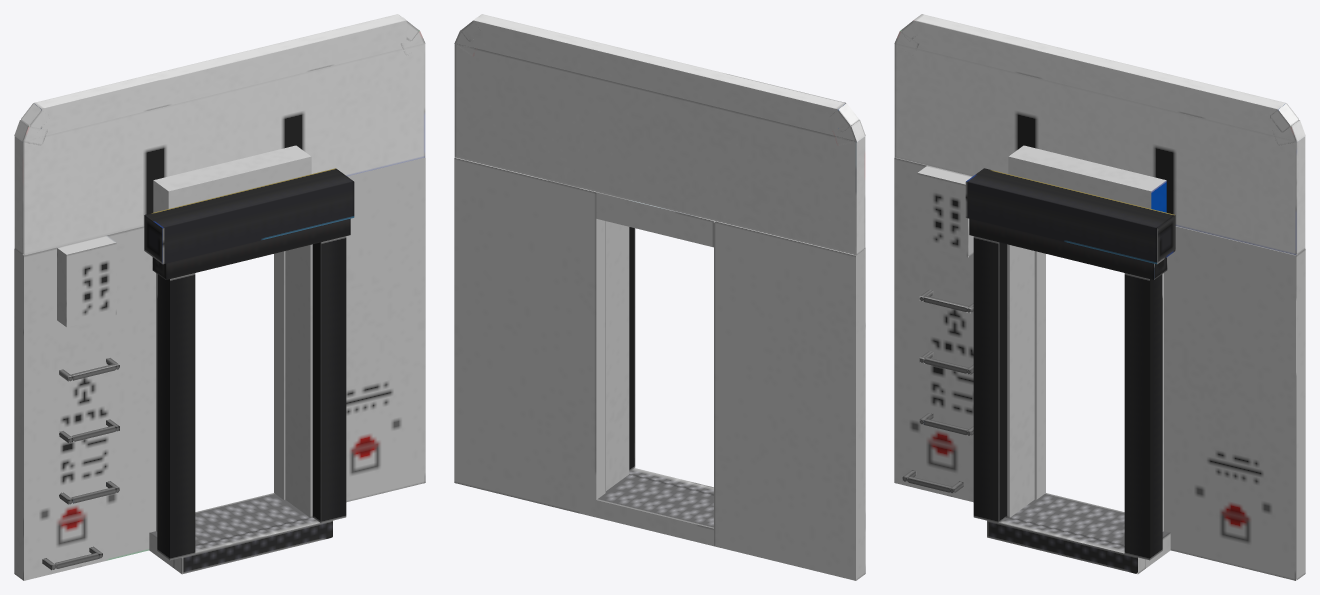
The model's file is end_face_original_rubber_25t_2.obj.
3 renders of one model, left to right at view 1: azimuth 30°, elevation 25°; view 2: azimuth 150°, elevation 25°; view 3: azimuth 330°, elevation 25°, orthographic.
Visible parts, largest first — view 1: cube; view 2: cube; view 3: cube.
Part boxes in pixels (x1,y1,x2,y2): cube: (14, 14, 425, 580); cube: (454, 14, 865, 580); cube: (894, 14, 1305, 580).
Bounding box in the file's own units: 3 × 3.32 × 0.5594.
